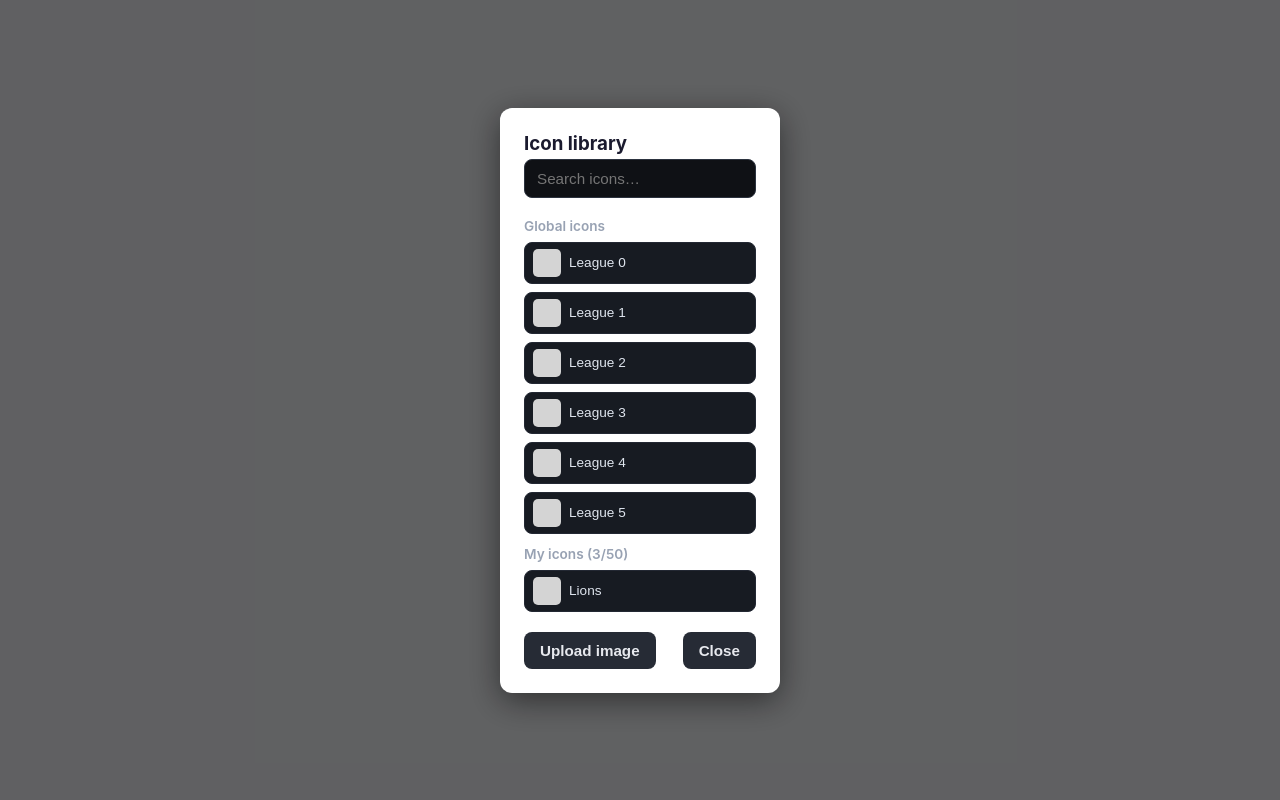
IconPickerDialog › shows a name filter above the threshold and narrows both sections
This screenshot has width=1280, height=800.
Check: the text "Lions" is shown, box [569,583,602,598]
Type "tig" into the field with test id "icon-picker-filter" at (640, 178), box [524,158,756,198]
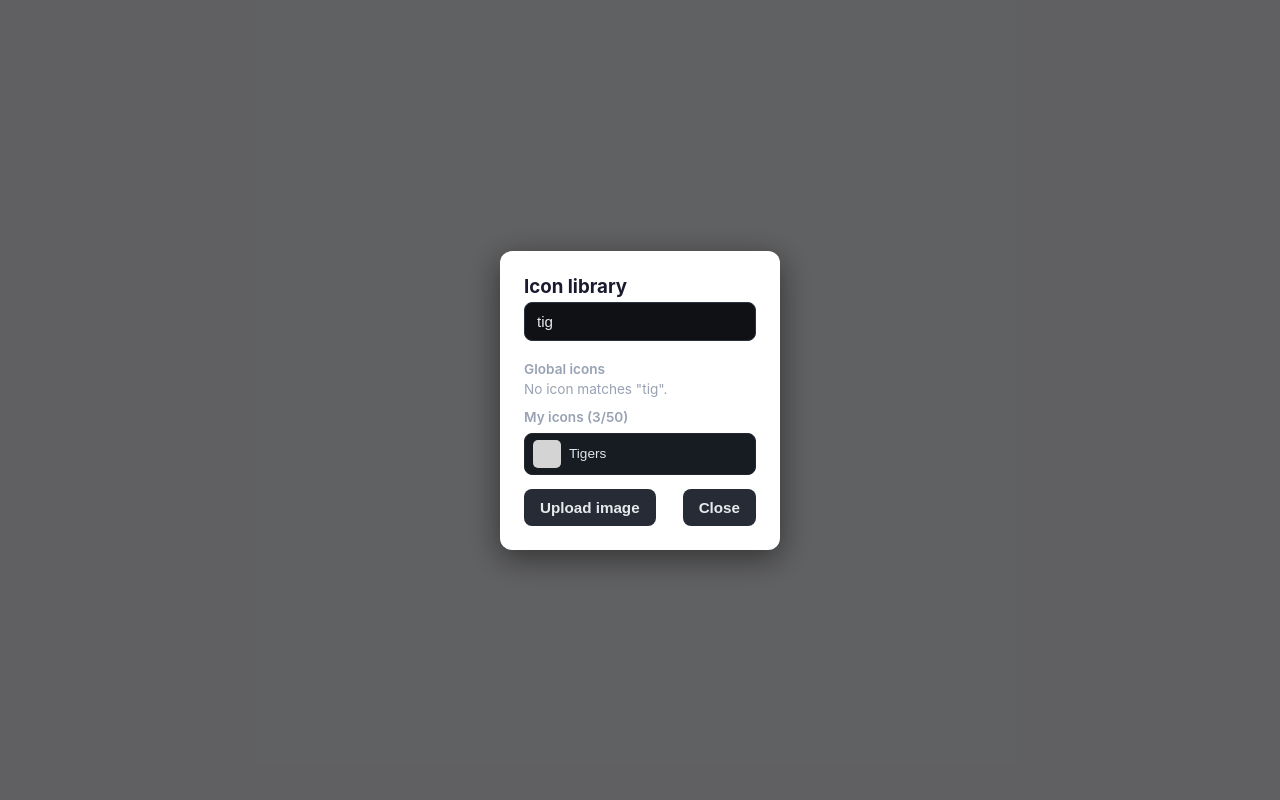
Check: the text "Tigers" is shown, box [569,446,606,461]
Check: the button "Lions" is gone
Check: the button "League 1" is gone
Empty-after-filter shows the no-match message, not the empty-library one.
Replace the text in the field with test id "icon-picker-filter" with "zzz" at (640, 321), box [524,302,756,340]
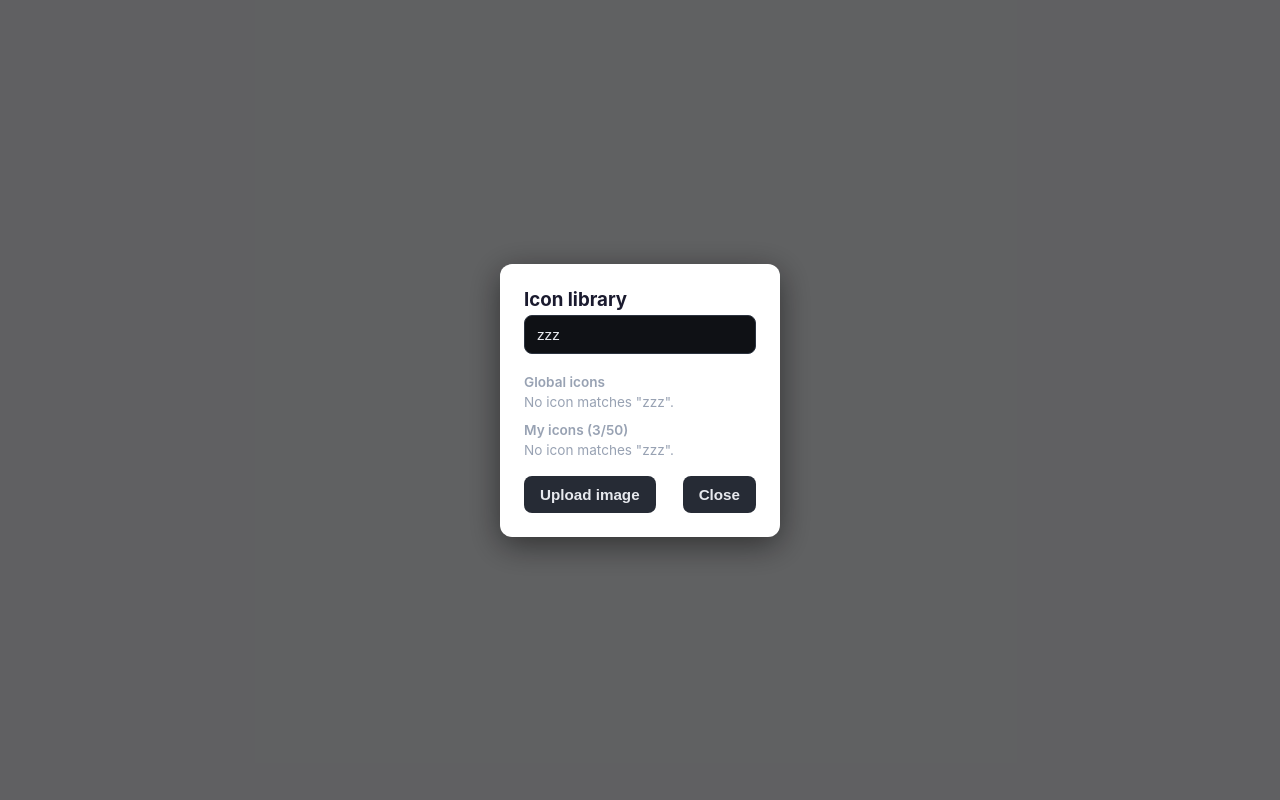
Check: the text "No icon matches \"zzz\"." is shown 2 times, box [524,394,674,410]; [524,442,674,458]
